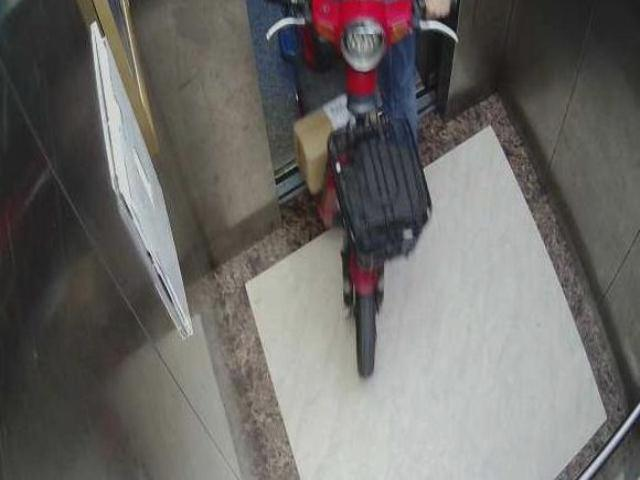emotor: (273, 8, 445, 375)
